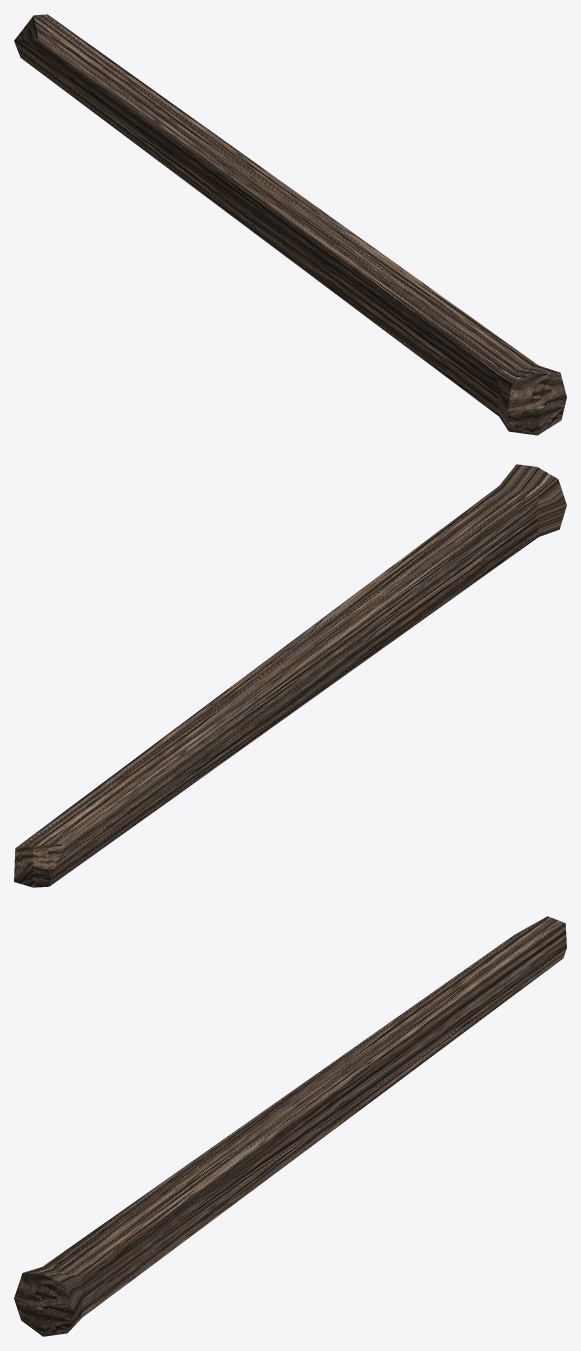
The model's file is log.glb.
3 renders of one model, top to bottom at view 1: azimuth 30°, elevation 25°; view 2: azimuth 150°, elevation 25°; view 3: azimuth 330°, elevation 25°, orthographic.
Visible parts, largest first — view 1: Cube; view 2: Cube; view 3: Cube.
Part boxes in pixels (bbox=[...]): Cube: bbox=[14, 14, 566, 435]; Cube: bbox=[14, 464, 566, 887]; Cube: bbox=[14, 916, 566, 1336].
Size of the model in its own units: 0.1 by 0.1 by 1.5.
1 material, 1 textured.
